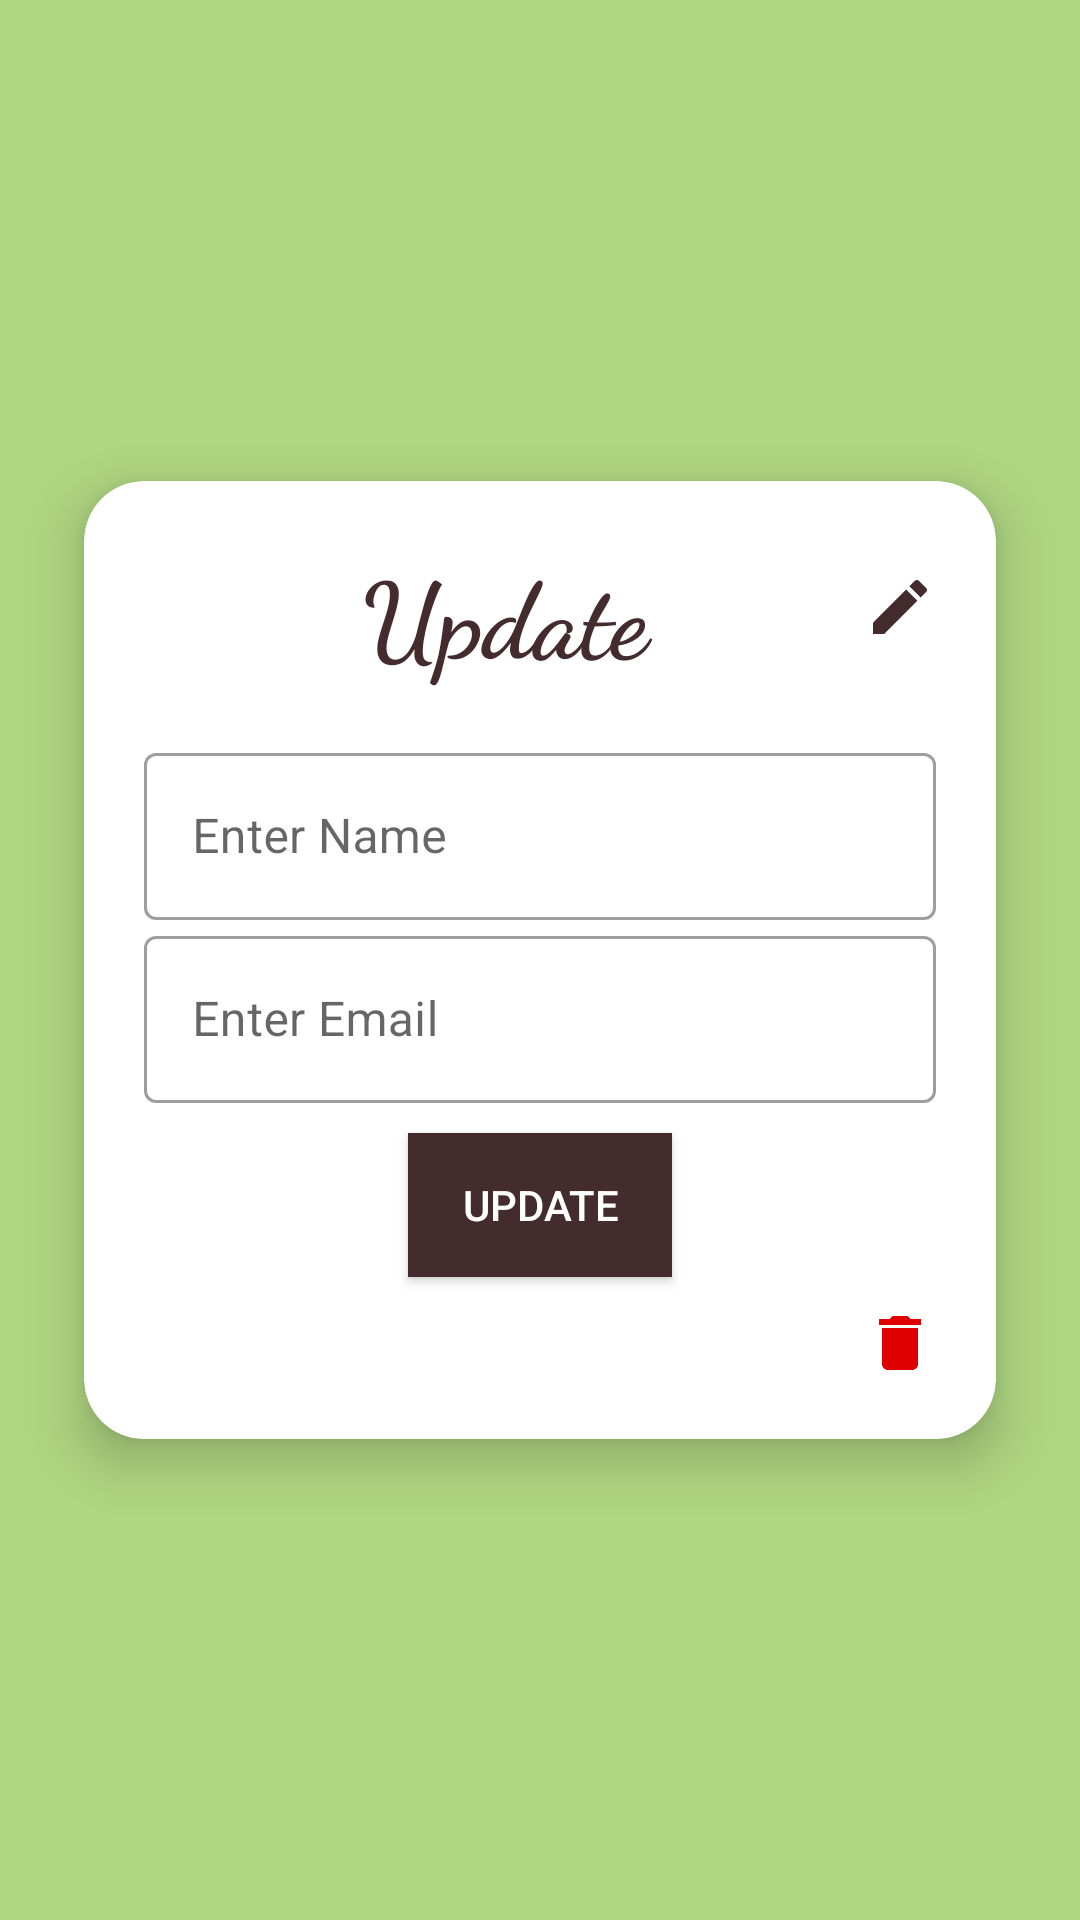

Screen size 1080*1920. Icon name, then its box in pixels as bbox=(x1, y1, x2, y2):
delete: bbox=(879, 1316, 921, 1370)
edit: bbox=(873, 580, 927, 634)
